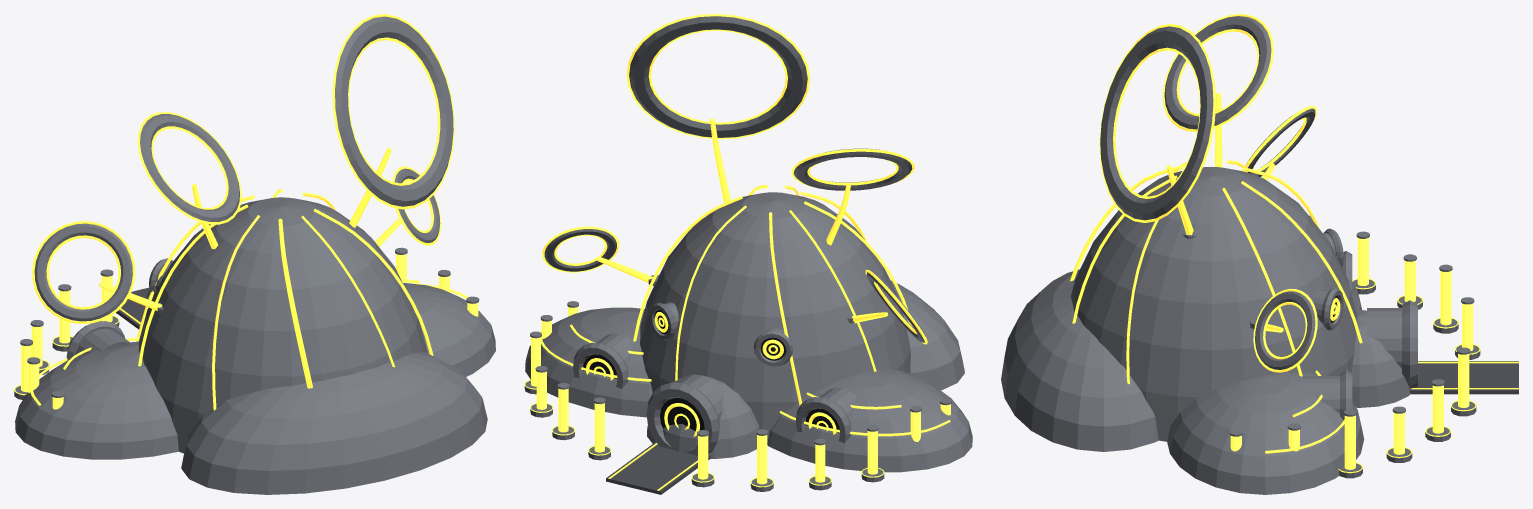
File: power.glb
The picture shows the model from 3 angles, left to right: view 1: azimuth 30°, elevation 25°; view 2: azimuth 150°, elevation 25°; view 3: azimuth 270°, elevation 25°; orthographic projection. The views are drawn at different scales.
Parts seen in each view (by area): view 1: power, detail; view 2: power, detail; view 3: power, detail.
Part boxes in pixels (left/top/right/bottom): power: left=14, top=16, right=495, bottom=494; detail: left=14, top=14, right=479, bottom=410; power: left=524, top=16, right=972, bottom=494; detail: left=524, top=14, right=951, bottom=490; power: left=1001, top=16, right=1518, bottom=494; detail: left=1070, top=14, right=1518, bottom=473.
Bounding box in the file's own units: 40.6 × 32.14 × 38.5.
